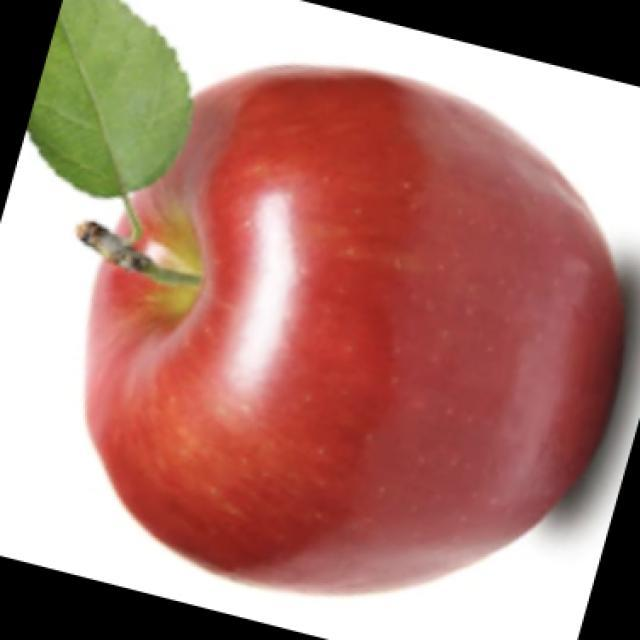Fresh Apple: (82, 56, 613, 596)
